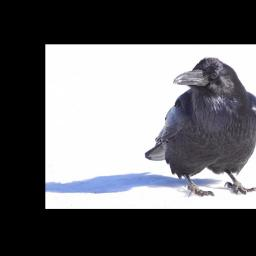Crow: (143, 56, 256, 198)
